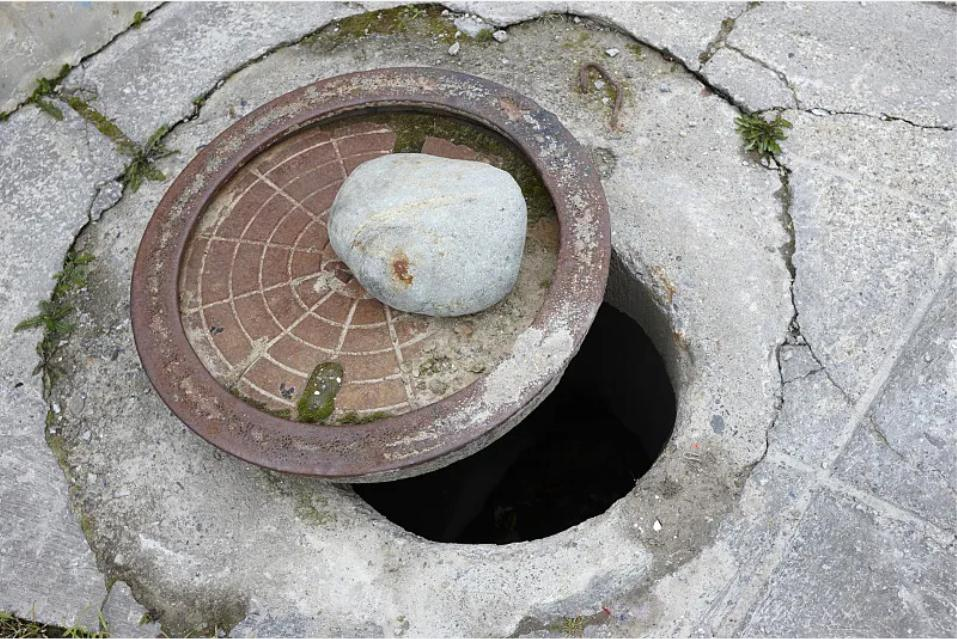wellcover: (124, 74, 715, 566)
